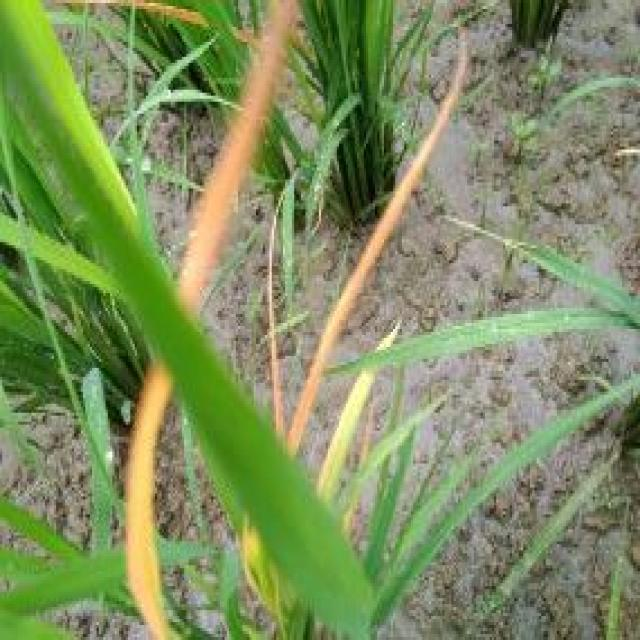Tungro: (326, 27, 471, 366), (173, 8, 302, 303), (114, 356, 195, 640)
